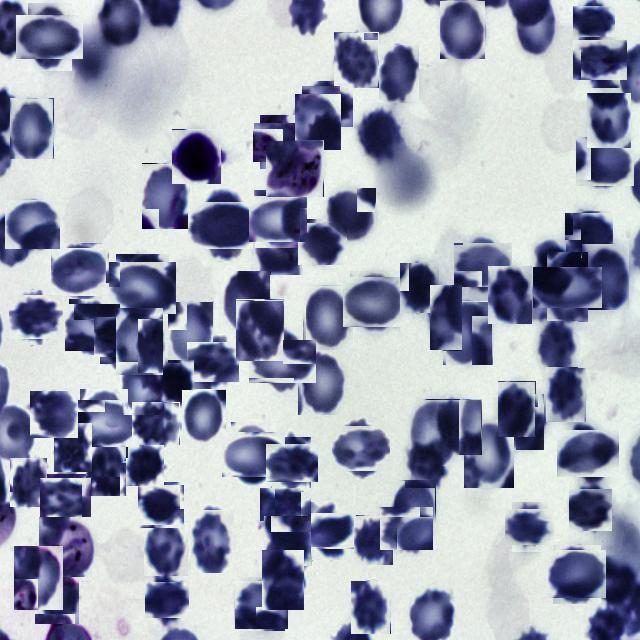leukocyte: (172, 129, 222, 184)
red blood cell: (194, 195, 254, 255), (112, 258, 172, 318), (75, 394, 133, 453), (464, 420, 514, 488), (410, 399, 460, 466), (116, 307, 164, 375), (14, 545, 64, 610), (303, 285, 354, 348), (442, 301, 492, 365), (298, 350, 347, 415), (142, 163, 190, 229), (221, 271, 270, 335), (22, 9, 78, 65), (540, 260, 596, 316), (582, 244, 629, 310), (347, 274, 402, 330), (254, 334, 310, 389), (561, 426, 616, 481), (236, 299, 284, 362), (578, 134, 632, 188), (550, 548, 604, 602), (227, 428, 280, 482), (53, 246, 107, 299), (168, 301, 214, 363), (191, 509, 235, 573), (252, 192, 304, 245), (440, 0, 486, 59), (335, 422, 387, 474), (234, 578, 286, 630), (6, 199, 58, 251), (326, 188, 376, 242), (252, 221, 302, 275), (356, 106, 404, 162), (10, 98, 54, 159), (457, 239, 508, 291), (67, 302, 118, 354), (35, 566, 80, 624), (534, 240, 581, 295), (295, 94, 341, 150), (488, 266, 532, 324), (334, 32, 379, 88), (262, 550, 304, 610), (534, 320, 578, 376), (438, 399, 482, 455), (11, 293, 61, 342), (264, 515, 312, 566), (394, 480, 436, 538), (144, 521, 188, 576), (587, 93, 631, 148), (86, 438, 127, 496), (182, 390, 226, 444), (122, 359, 164, 415), (382, 504, 431, 552), (379, 45, 419, 103), (576, 36, 624, 84), (42, 476, 90, 524), (96, 313, 144, 361), (190, 339, 238, 386), (256, 119, 304, 166), (30, 391, 78, 438), (304, 508, 351, 554), (566, 212, 612, 259), (304, 84, 351, 130), (351, 580, 391, 634), (546, 368, 586, 422), (498, 381, 536, 437), (300, 220, 346, 266), (405, 441, 450, 488), (430, 286, 462, 352), (508, 393, 545, 450), (269, 440, 314, 486), (132, 402, 180, 445), (400, 262, 440, 313), (354, 515, 394, 565), (10, 458, 48, 508), (54, 423, 92, 472), (508, 506, 552, 548), (138, 484, 182, 526), (569, 489, 613, 531), (264, 484, 306, 526), (147, 580, 187, 621), (159, 360, 194, 406), (126, 445, 164, 486), (576, 2, 612, 40)
trophozoite: (39, 517, 95, 577), (266, 140, 324, 197)
